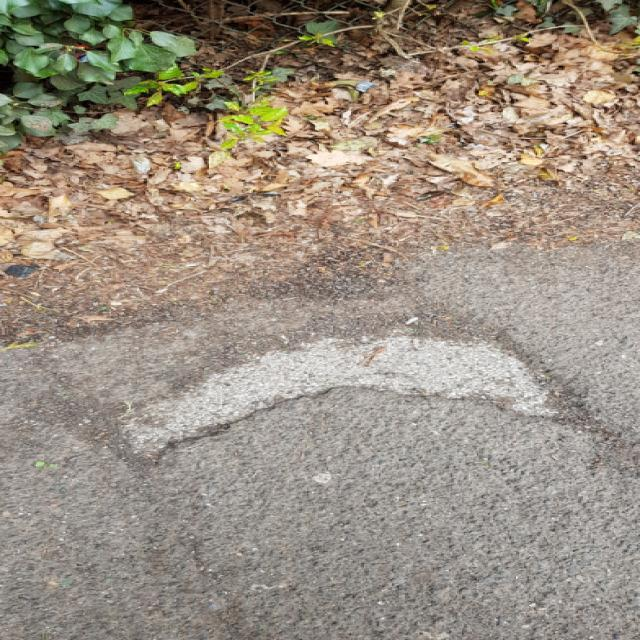Pothole: (104, 314, 610, 464)
